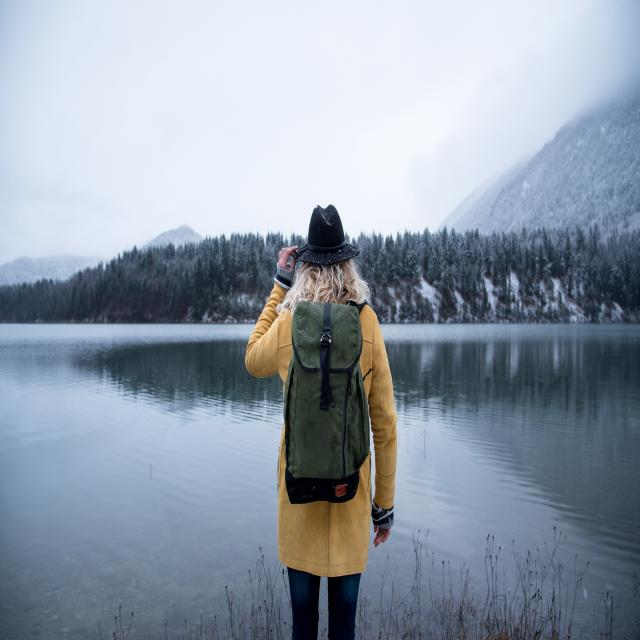backpack: (279, 300, 369, 503)
